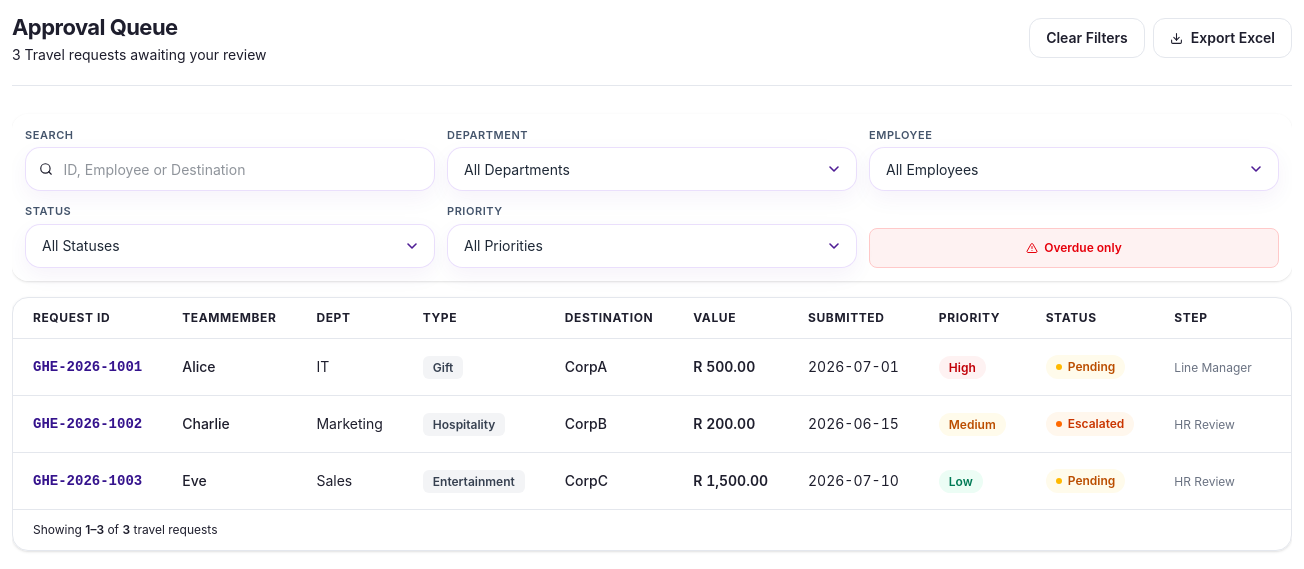
Test: ApprovalQueue › filters by search text
Type "CorpC" into the field with placeholder "ID, Employee or Destination" at (230, 169), box [25,147,435,191]
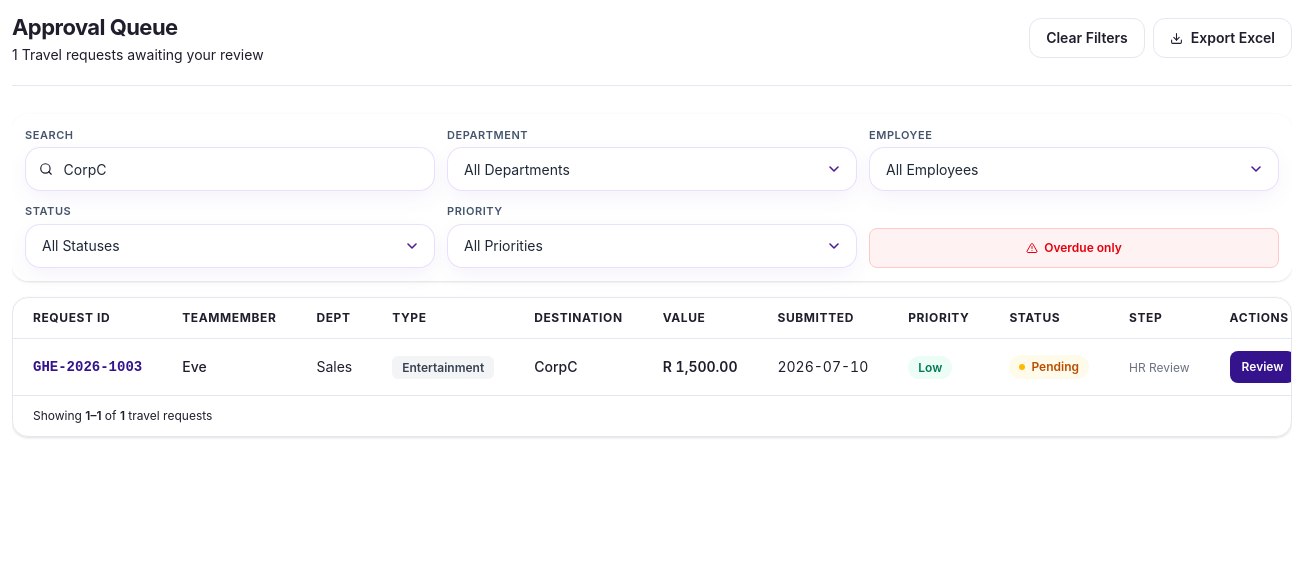
Expected: the text "GHE-2026-1001" is not shown
